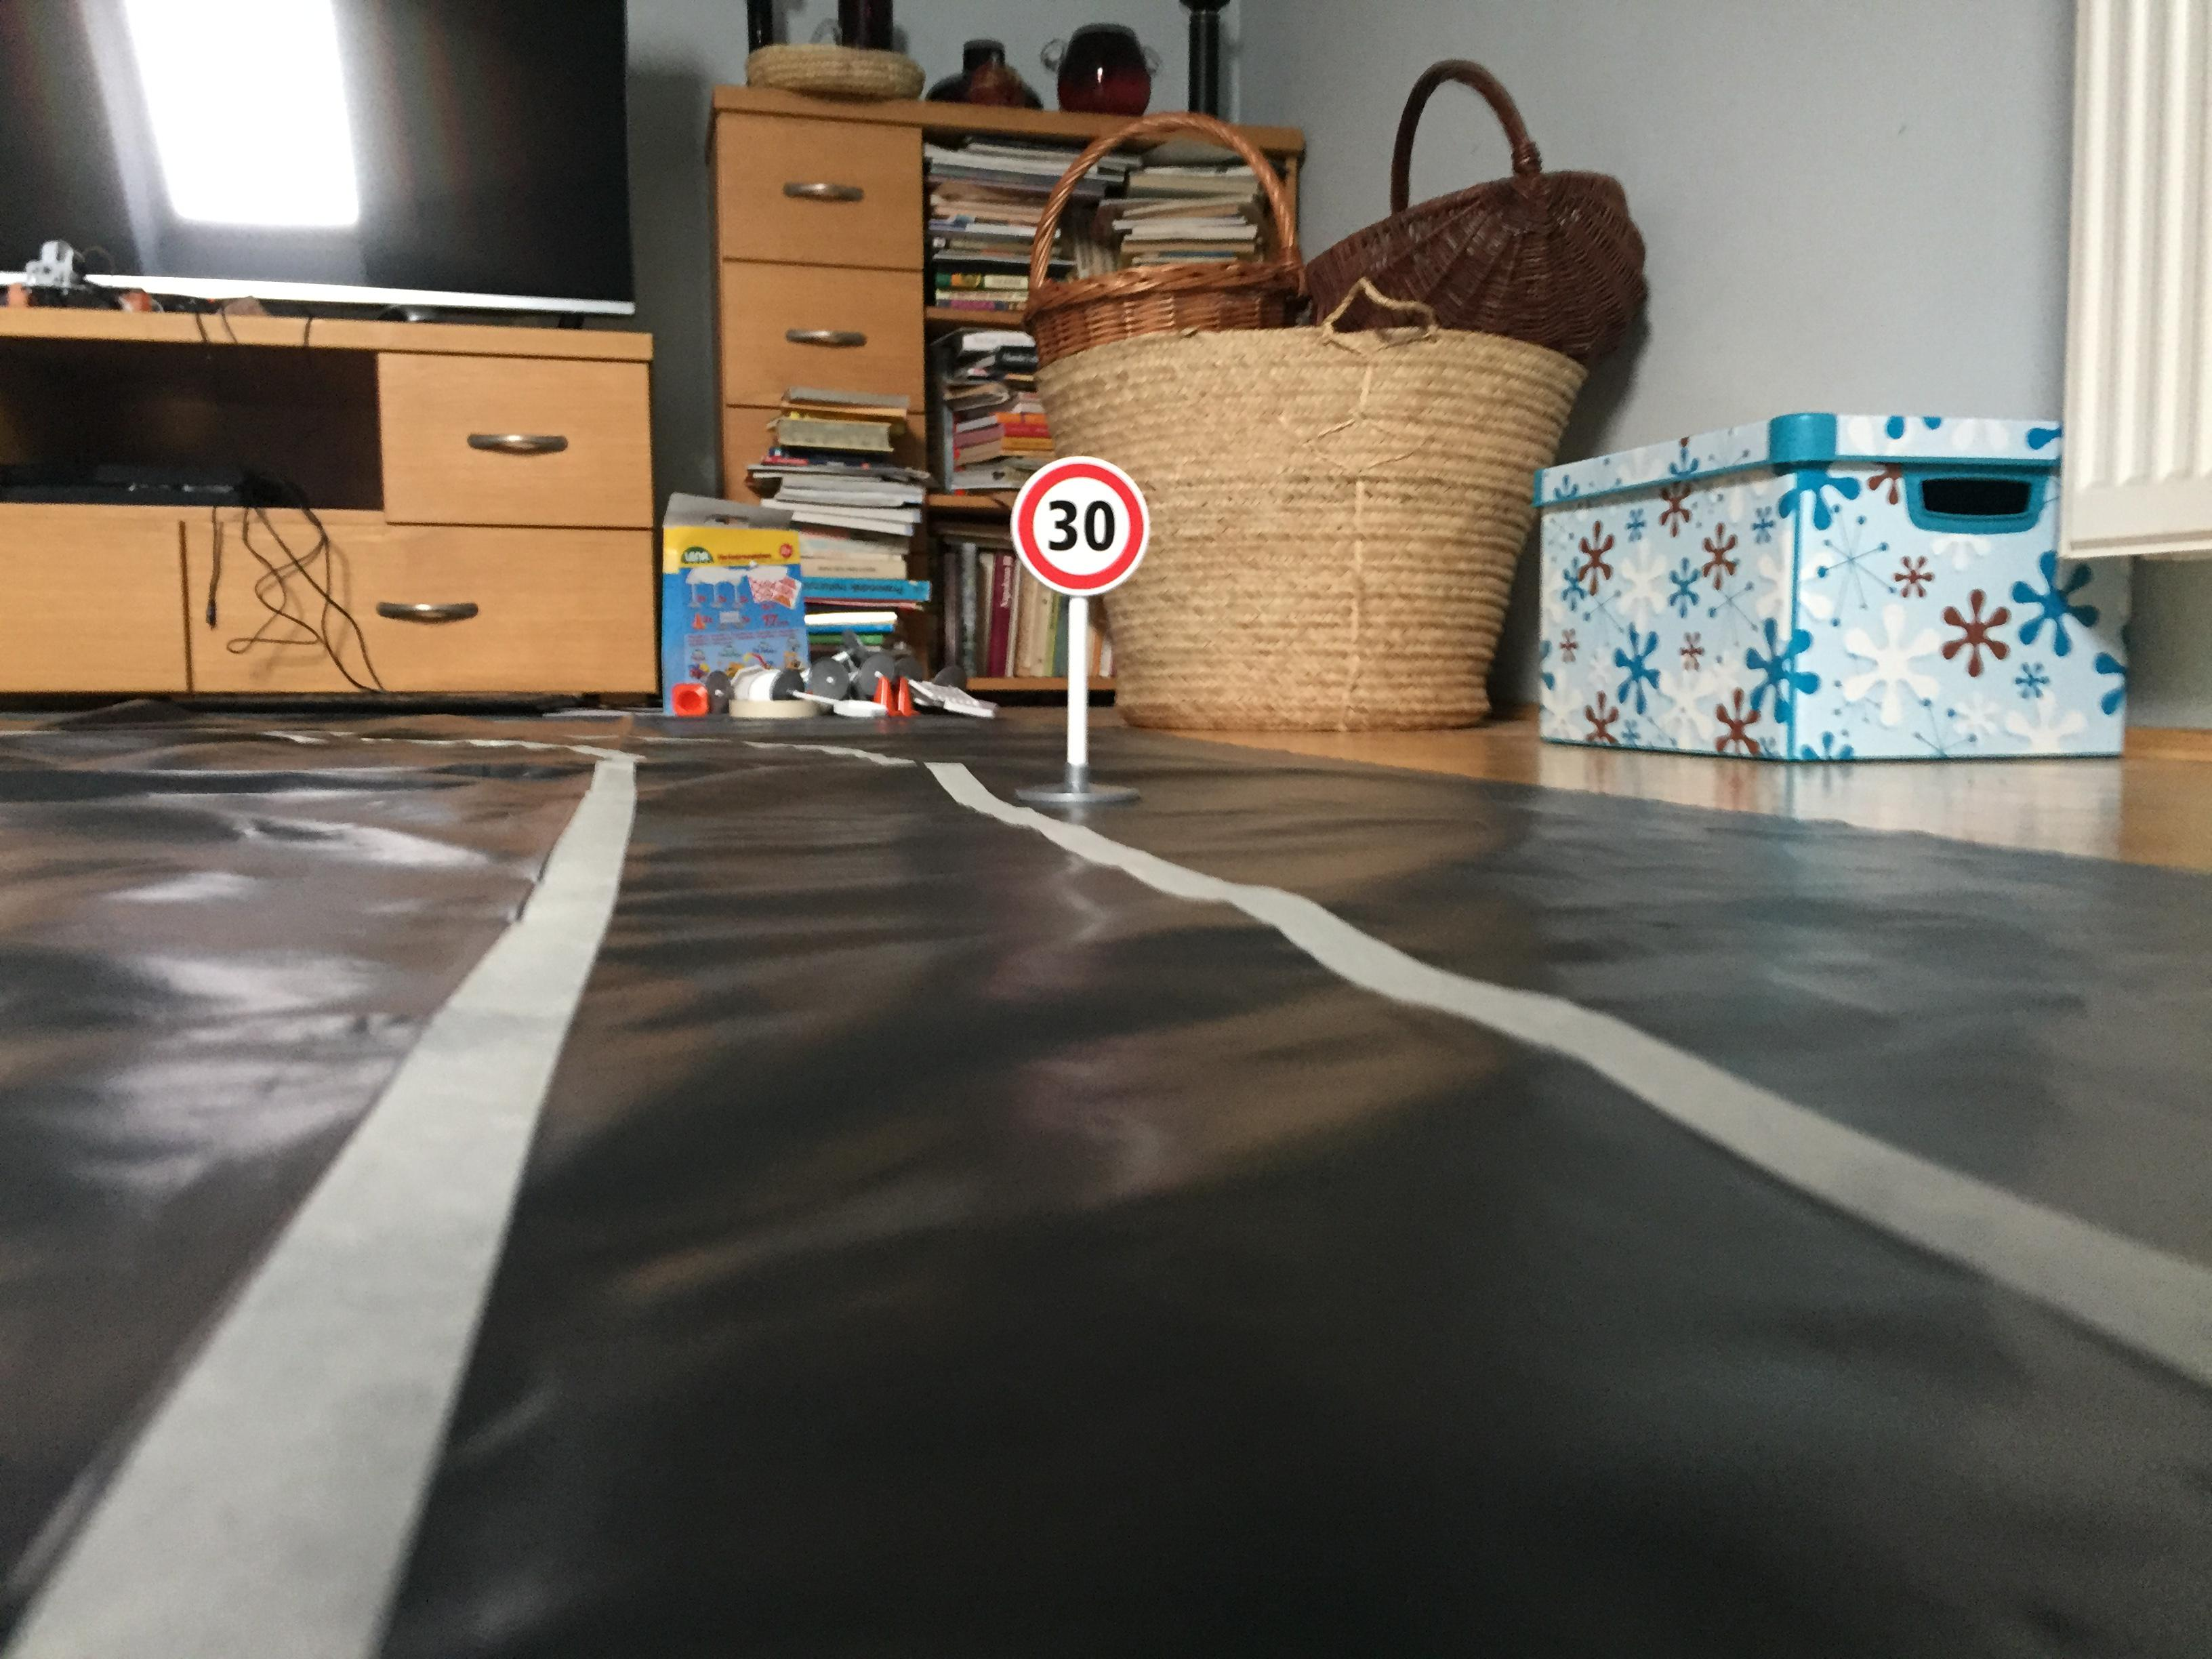speed: (1001, 450, 1157, 603)
